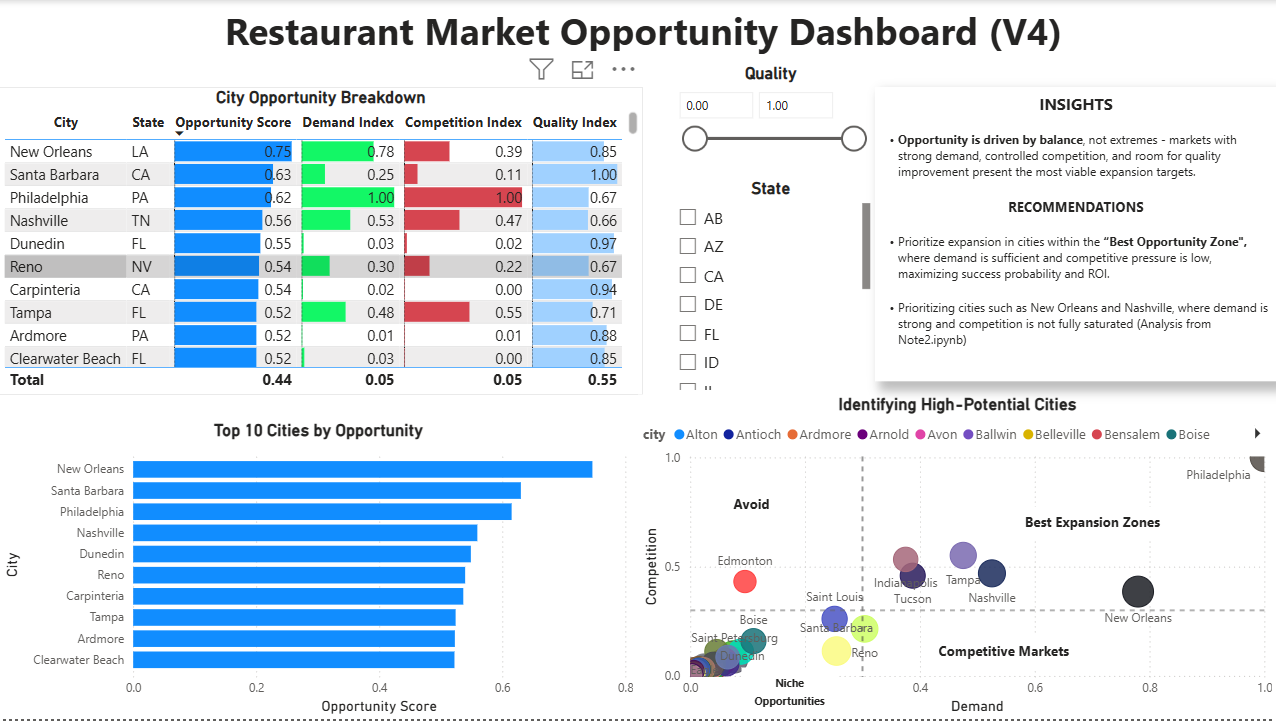

This screenshot's page, from the dashboard's own definition file:
{"tool":"powerbi","page":{"name":"Page 1","canvas":[1280,720],"ordinal":0},"visuals":[{"type":"textbox","box":[9.9,0,1269.6,62.5],"z":0},{"type":"tableEx","title":"City Opportunity Breakdown","fields":{"Values":["final_city.city","final_city.state","Avg(final_city.Opportunity Score)","Avg(final_city.Demand Index)","Avg(final_city.Competition Index)","Avg(final_city.Quality Index)"]},"box":[0,87.1,644.3,307.9],"z":1000},{"type":"clusteredBarChart","title":"Top 10 Cities by Opportunity","fields":{"Category":["final_city.city"],"Y":["Avg(final_city.Opportunity Score)"]},"box":[0,420.5,639.8,298.9],"z":2000},{"type":"scatterChart","title":"Identifying High-Potential Cities","fields":{"X":["Avg(final_city.Demand Index)"],"Y":["Avg(final_city.Competition Index)"],"Size":["Avg(final_city.Opportunity Score)"],"Series":["final_city.city"]},"box":[639.8,395,639.8,324.4],"z":3000},{"type":"slicer","title":"State","fields":{"Values":["final_city.state"]},"box":[668.3,178.7,208.7,216.3],"z":4000},{"type":"slicer","title":"Quality","fields":{"Values":["final_city.Quality Index"]},"box":[668.3,63.1,208.7,115.6],"z":5000},{"type":"textbox","box":[935.6,636.8,150.2,33],"z":6000},{"type":"textbox","box":[1010.7,507.6,168.2,33],"z":7000},{"type":"textbox","box":[743.4,668.3,96.1,51.1],"z":8000},{"type":"textbox","box":[719.3,489.6,72.1,34.5],"z":8001},{"type":"textbox","box":[877,87.1,402.5,294.3],"z":8002}]}

Visuals, with their boxes in screenshot pixels (x1, y1, x2, y2), scaled from the page's 1280x720 canvas onto the 1276x721 screenshot:
textbox: [left=10, top=0, right=1275, bottom=63]
"City Opportunity Breakdown" tableEx: [left=0, top=87, right=642, bottom=396]
"Top 10 Cities by Opportunity" clusteredBarChart: [left=0, top=421, right=638, bottom=720]
"Identifying High-Potential Cities" scatterChart: [left=638, top=396, right=1275, bottom=720]
"State" slicer: [left=666, top=179, right=874, bottom=396]
"Quality" slicer: [left=666, top=63, right=874, bottom=179]
textbox: [left=933, top=638, right=1082, bottom=671]
textbox: [left=1008, top=508, right=1175, bottom=541]
textbox: [left=741, top=669, right=837, bottom=720]
textbox: [left=717, top=490, right=789, bottom=525]
textbox: [left=874, top=87, right=1275, bottom=382]
